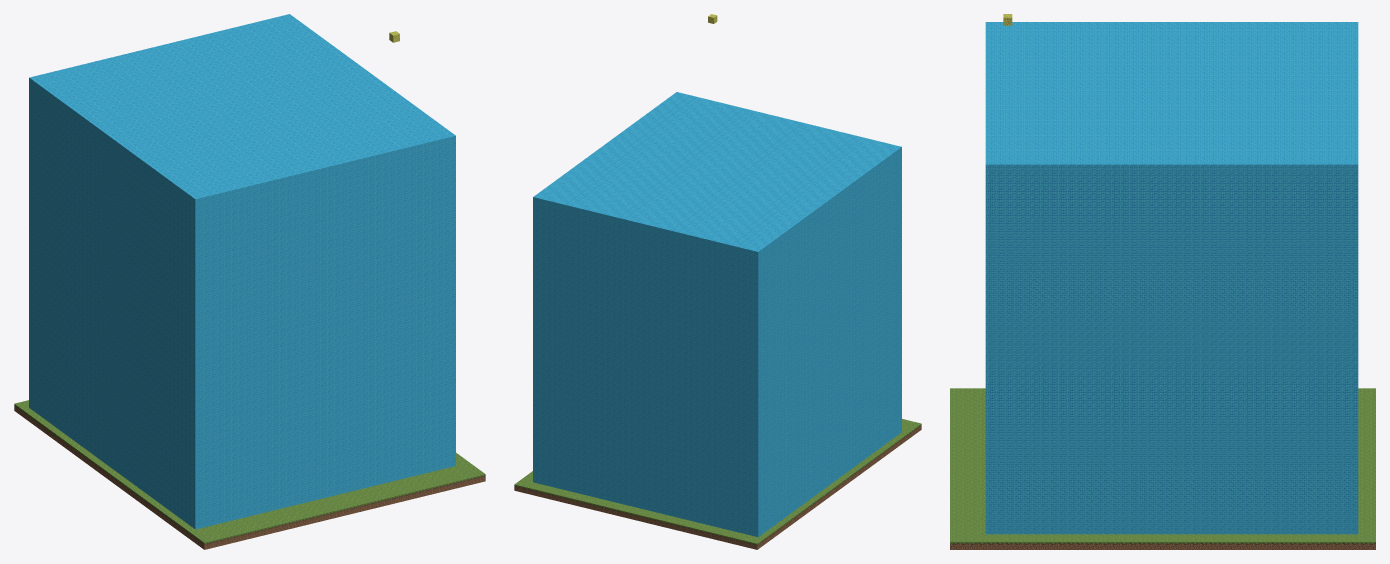
File: block.obj
3 renders of one model, left to right at view 1: azimuth 30°, elevation 25°; view 2: azimuth 150°, elevation 25°; view 3: azimuth 270°, elevation 25°, orthographic. The views are drawn at different scales.
Visible parts, largest first — view 1: Wool, Grass_Block; view 2: Wool, Grass_Block; view 3: Wool, Grass_Block.
Part boxes in pixels (<box>): Wool: <box>29,14,455,529</box>; Grass_Block: <box>14,400,485,549</box>; Wool: <box>533,92,901,537</box>; Grass_Block: <box>514,419,921,549</box>; Wool: <box>985,22,1358,534</box>; Grass_Block: <box>950,388,1375,549</box>.
Bounding box in the file's own units: 41 × 62 × 48.
3 materials, 3 textured.
